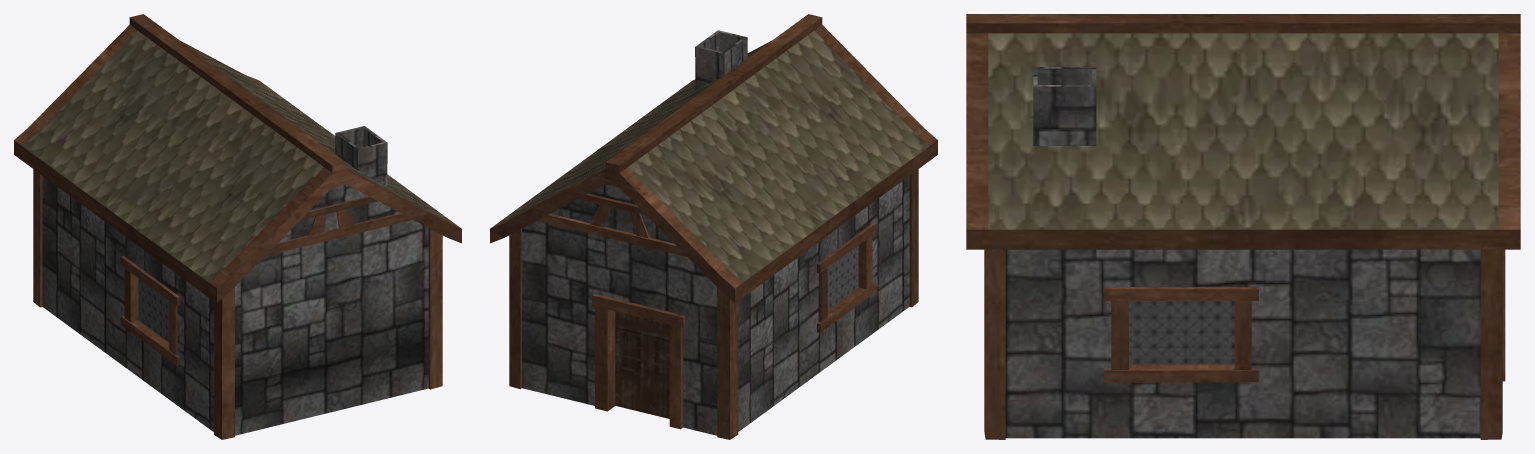
File: store.glb
3 views of the same model, side by side, from view 1: azimuth 30°, elevation 25°; view 2: azimuth 150°, elevation 25°; view 3: azimuth 270°, elevation 25° (orthographic). The views are drawn at different scales.
Visible parts, largest first — view 1: Box001 (×8); view 2: Box001 (×9); view 3: Box001 (×7).
Part boxes in pixels (bbox=[...]): Box001 (×8): bbox=[14, 14, 461, 439]; Box001 (×9): bbox=[490, 14, 937, 439]; Box001 (×7): bbox=[966, 14, 1520, 439].
Bounding box in the file's own units: 1.4 × 1.38 × 2.
Materials: 10 (9 with a texture image).
